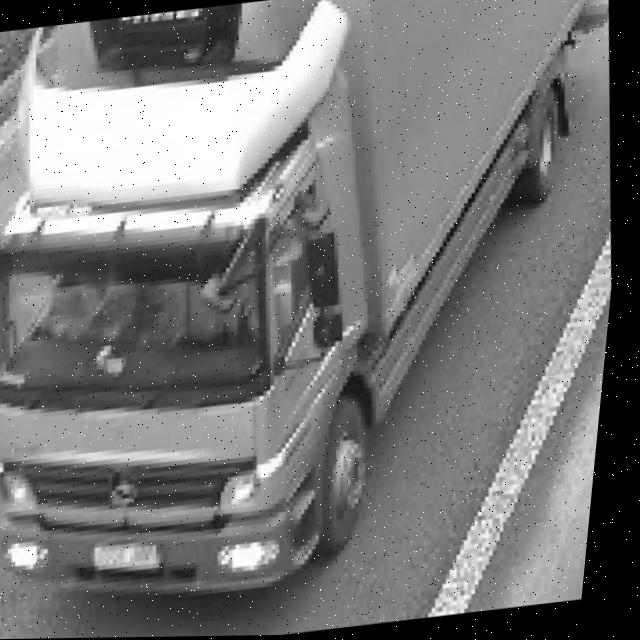truck: (1, 151, 421, 640)
